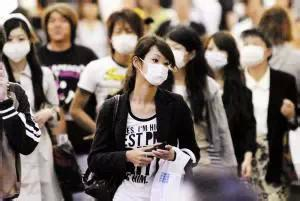NONE: (50, 17, 73, 41)
OK: (139, 51, 173, 85), (4, 33, 31, 63), (242, 41, 267, 69), (114, 28, 140, 54), (165, 45, 192, 70), (205, 45, 232, 70)
